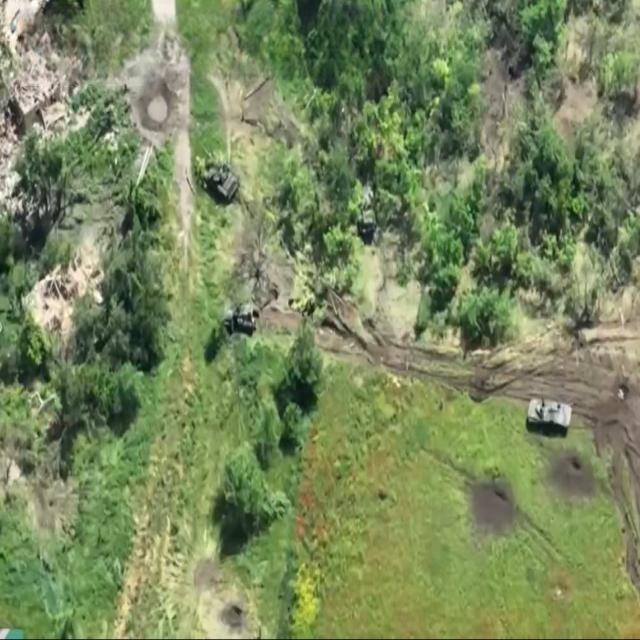AIFV: (527, 397, 576, 435)
MBT: (195, 139, 241, 210)
Vehicle: (359, 177, 380, 242), (223, 303, 261, 337)
